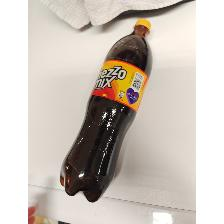Soda: (58, 18, 156, 204)
